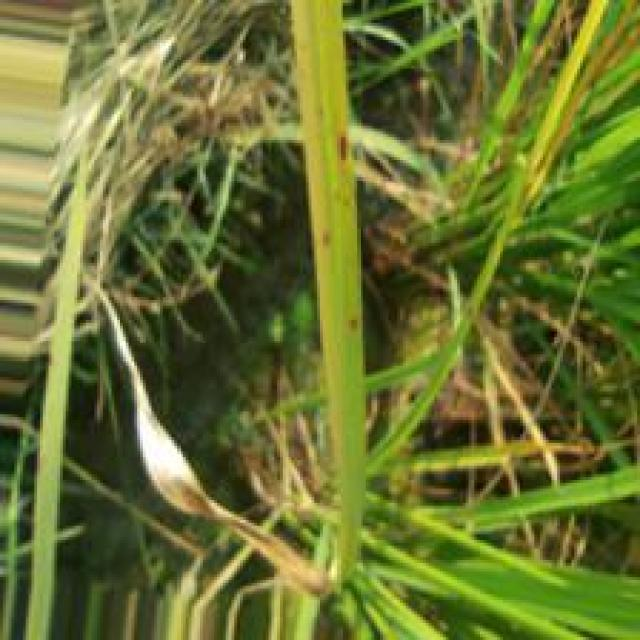Brown_Spot: (337, 132, 352, 166), (319, 229, 334, 247), (350, 320, 361, 332)
